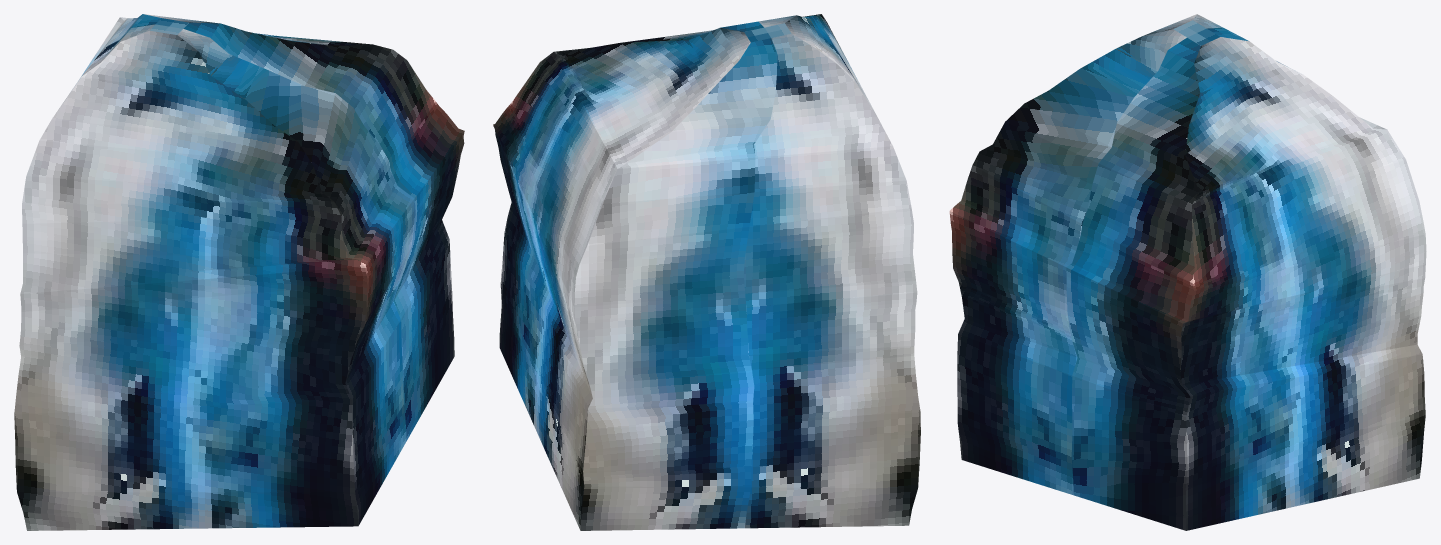
3 views of the same model, side by side, from view 1: azimuth 30°, elevation 25°; view 2: azimuth 150°, elevation 25°; view 3: azimuth 270°, elevation 25° (orthographic). The views are drawn at different scales.
Visible parts, largest first — view 1: SPLICE_1; view 2: SPLICE_1; view 3: SPLICE_1.
Boxes of the visible parts, x1=… form: SPLICE_1: x1=14, y1=14, x2=464, y2=530; SPLICE_1: x1=493, y1=14, x2=920, y2=530; SPLICE_1: x1=949, y1=14, x2=1426, y2=530.
Bounding box in the file's own units: 1.07 × 1.09 × 1.06.
Materials: 1 (1 with a texture image).
